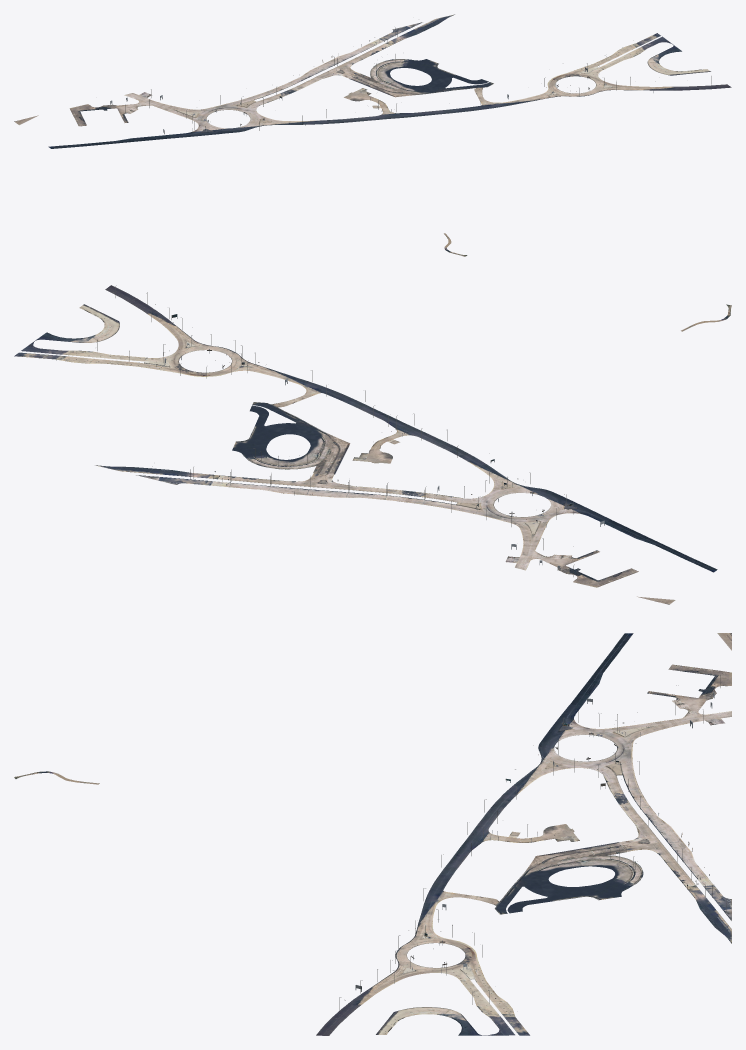
Rendered from roads_context_04.glb.
3 views of the same model, one above another, from view 1: azimuth 30°, elevation 25°; view 2: azimuth 150°, elevation 25°; view 3: azimuth 270°, elevation 25° (orthographic). The views are drawn at different scales.
Visible parts, largest first — view 1: I097501680001062A1.001; view 2: I097501680001062A1.001; view 3: I097501680001062A1.001.
Part boxes in pixels (x1,y1,x2,y2): I097501680001062A1.001: (14,14,731,256); I097501680001062A1.001: (14,285,731,604); I097501680001062A1.001: (14,633,731,1035).
Size of the model in its own units: 750 by 14.66 by 566.
Materials: 18 (17 with a texture image).
